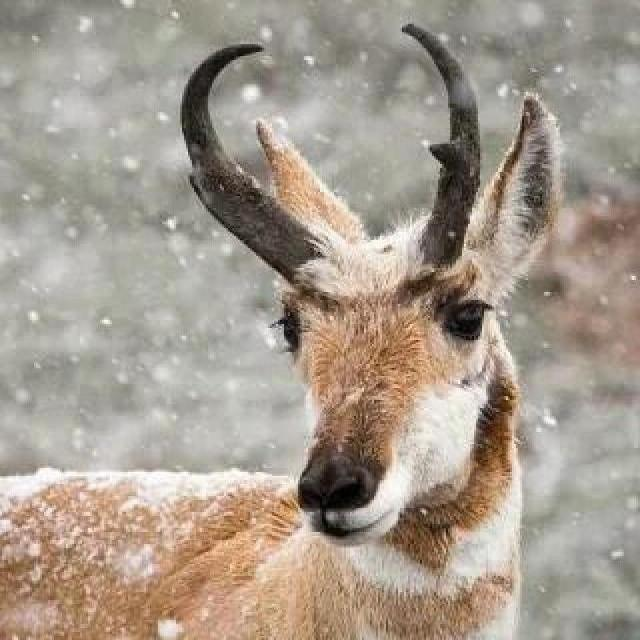deer: (115, 89, 634, 640)
